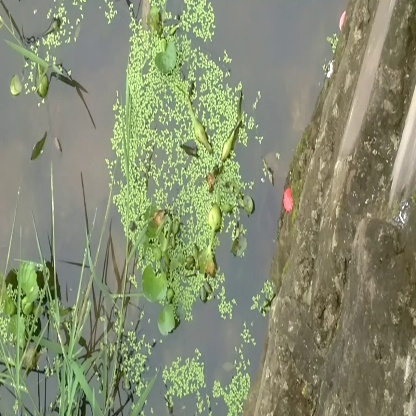leaf: (151, 35, 182, 77)
